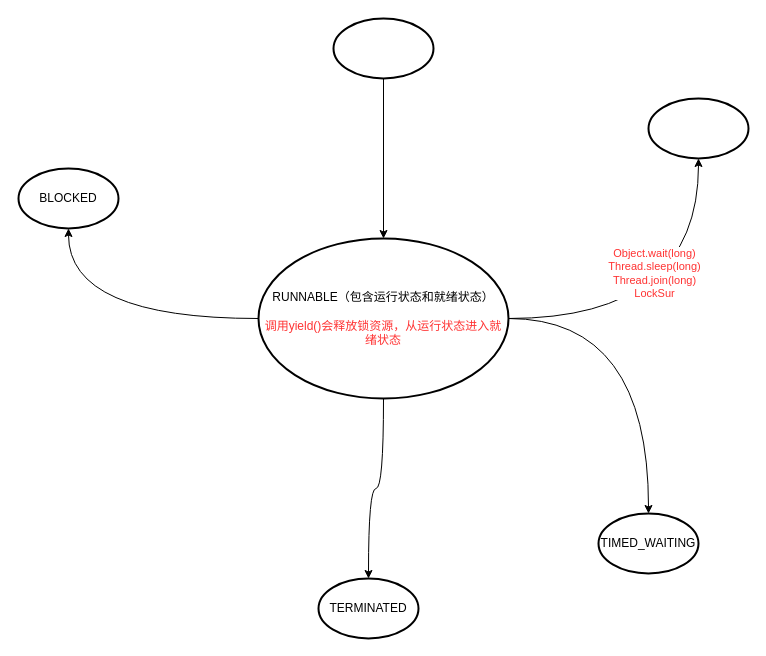
This 766x656 diagram has some shape labels left out. Here are the shapes that lost their labels. From the top down, the centre of each, then its label:
pixel 383 48: NEW
pixel 698 128: WAITING
